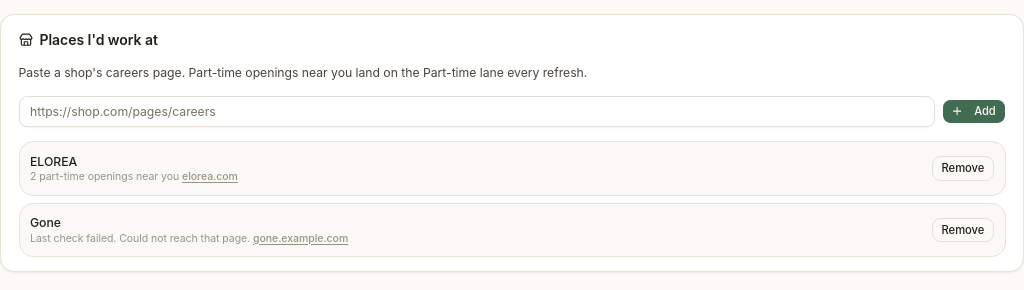
Test case: WatchedPagesSection › lists a watched page with its last check and removes it
Expected: the text "2 part-time openings near you elorea.com" is shown, [30,170,238,183]
Expected: the text "Last check failed. Could not reach that page." is shown, [30,232,250,244]
Click the button with aria-label "Remove Gone": (963, 230) [932,218,994,242]
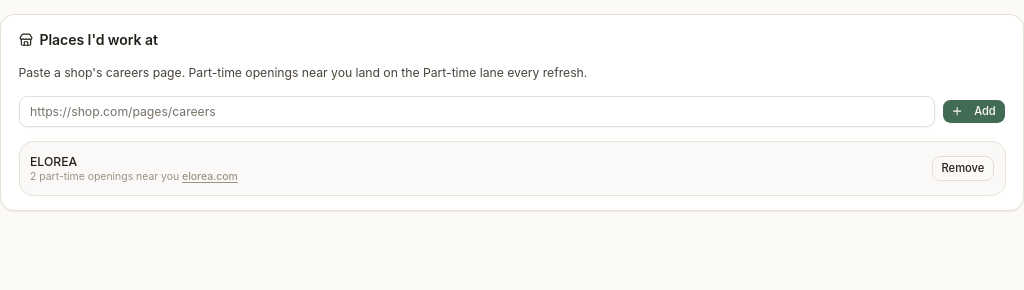
Expected: the text "Gone" is gone
